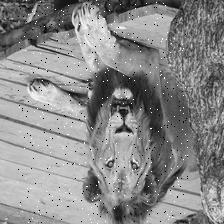Lion: (16, 0, 187, 224)
